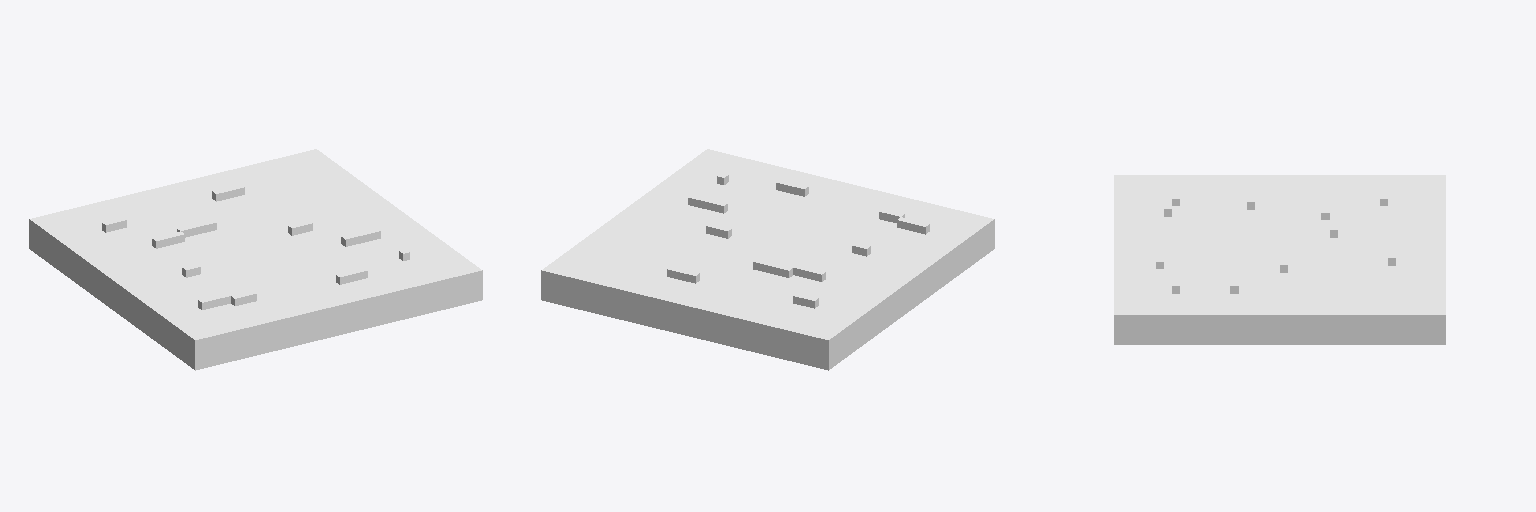
File: GrassNoBorder_1.obj
The picture shows the model from 3 angles: view 1: azimuth 30°, elevation 25°; view 2: azimuth 150°, elevation 25°; view 3: azimuth 270°, elevation 25°; orthographic projection.
Parts seen in each view (by area): view 1: GrassNoBorder_1; view 2: GrassNoBorder_1; view 3: GrassNoBorder_1.
Part boxes in pixels (left/top/right/bottom): GrassNoBorder_1: left=29, top=149, right=482, bottom=370; GrassNoBorder_1: left=541, top=149, right=994, bottom=370; GrassNoBorder_1: left=1114, top=175, right=1445, bottom=344.
Size of the model in its own units: 40 by 5 by 40.